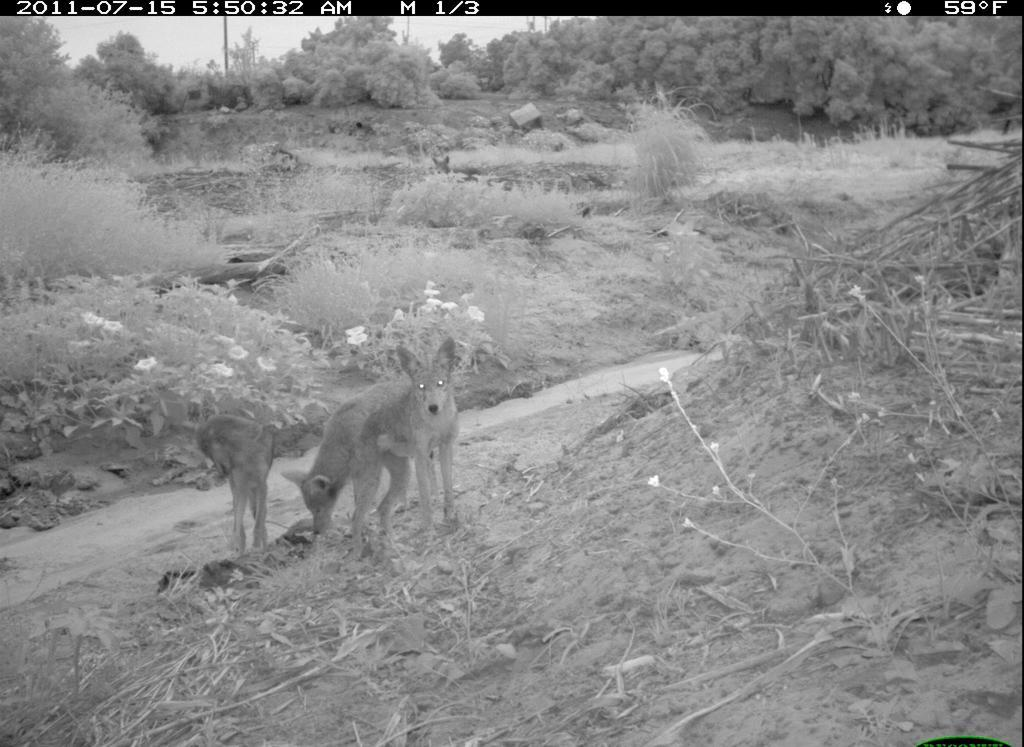coyote: (331, 331, 470, 570), (282, 368, 454, 561), (194, 411, 281, 554)
